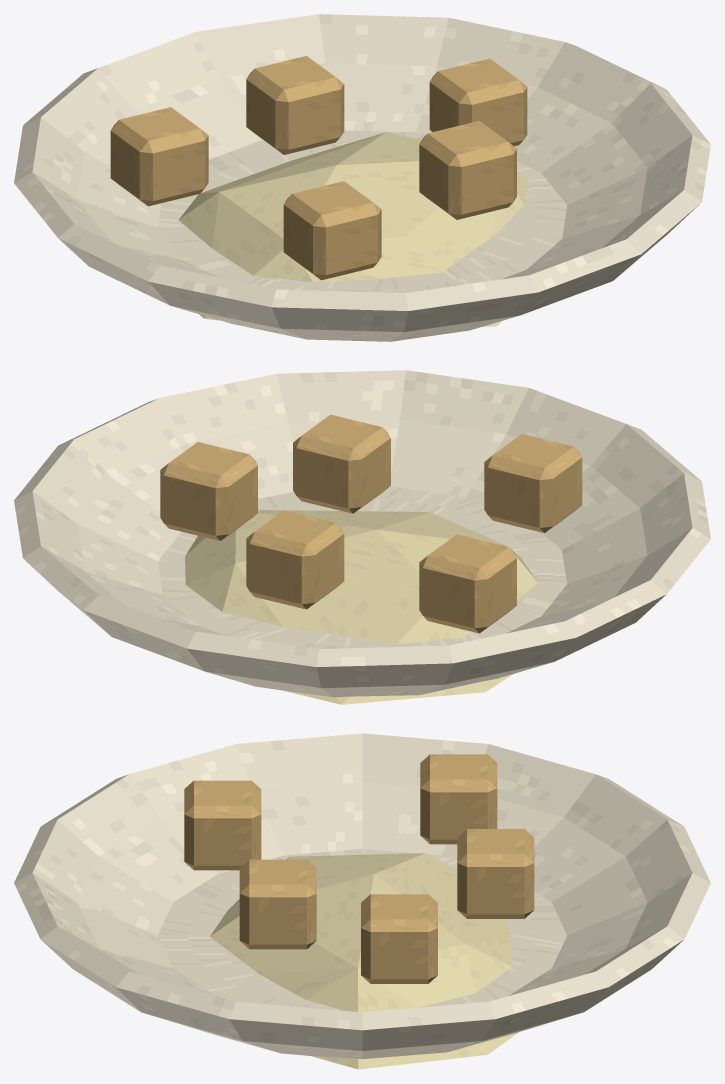
The model's file is tofu_rice.glb.
3 views of the same model, one above another, from view 1: azimuth 30°, elevation 25°; view 2: azimuth 150°, elevation 25°; view 3: azimuth 270°, elevation 25° (orthographic).
Visible parts, largest first — view 1: block_serving dish, block_tofu cube (×5), block_rice serving; view 2: block_serving dish, block_tofu cube (×5), block_rice serving; view 3: block_serving dish, block_tofu cube (×5), block_rice serving.
Boxes of the visible parts, x1=… form: block_serving dish: x1=14, y1=14, x2=710, y2=341; block_tofu cube (×5): x1=110, y1=56, x2=527, y2=280; block_rice serving: x1=178, y1=132, x2=528, y2=326; block_serving dish: x1=14, y1=370, x2=710, y2=697; block_tofu cube (×5): x1=160, y1=414, x2=582, y2=633; block_rice serving: x1=185, y1=510, x2=537, y2=704; block_serving dish: x1=14, y1=733, x2=710, y2=1059; block_tofu cube (×5): x1=184, y1=754, x2=534, y2=983; block_rice serving: x1=210, y1=853, x2=518, y2=1069.
Size of the model in its own units: 0.1197 by 0.0244 by 0.1197.
1 material, 1 textured.
